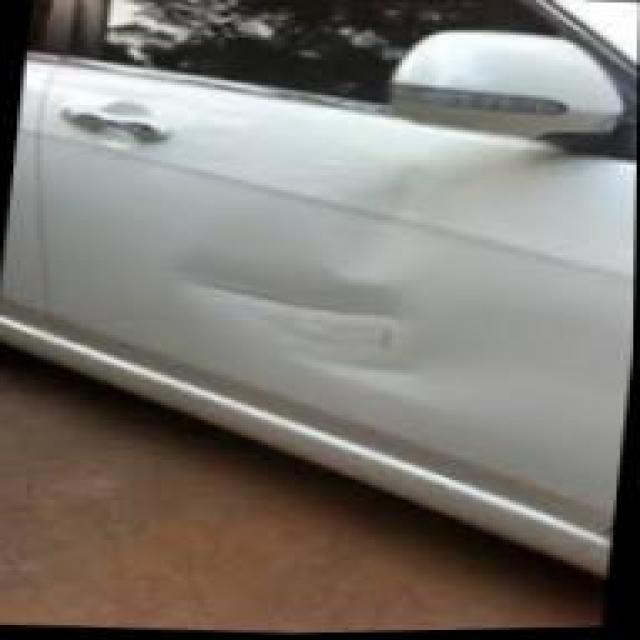Door: (62, 100, 603, 432)
